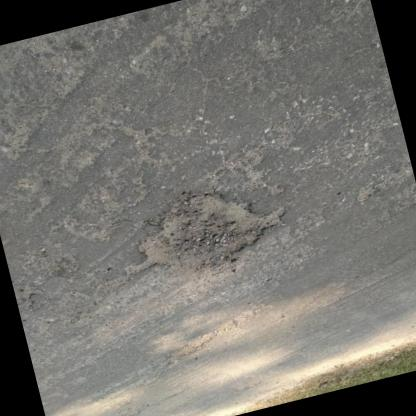pothole: (109, 173, 298, 292)
